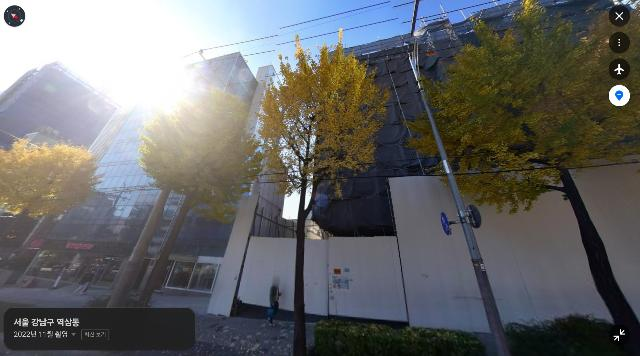ginkgo: (404, 0, 639, 356), (249, 26, 394, 356), (106, 87, 261, 309), (0, 137, 103, 283)
